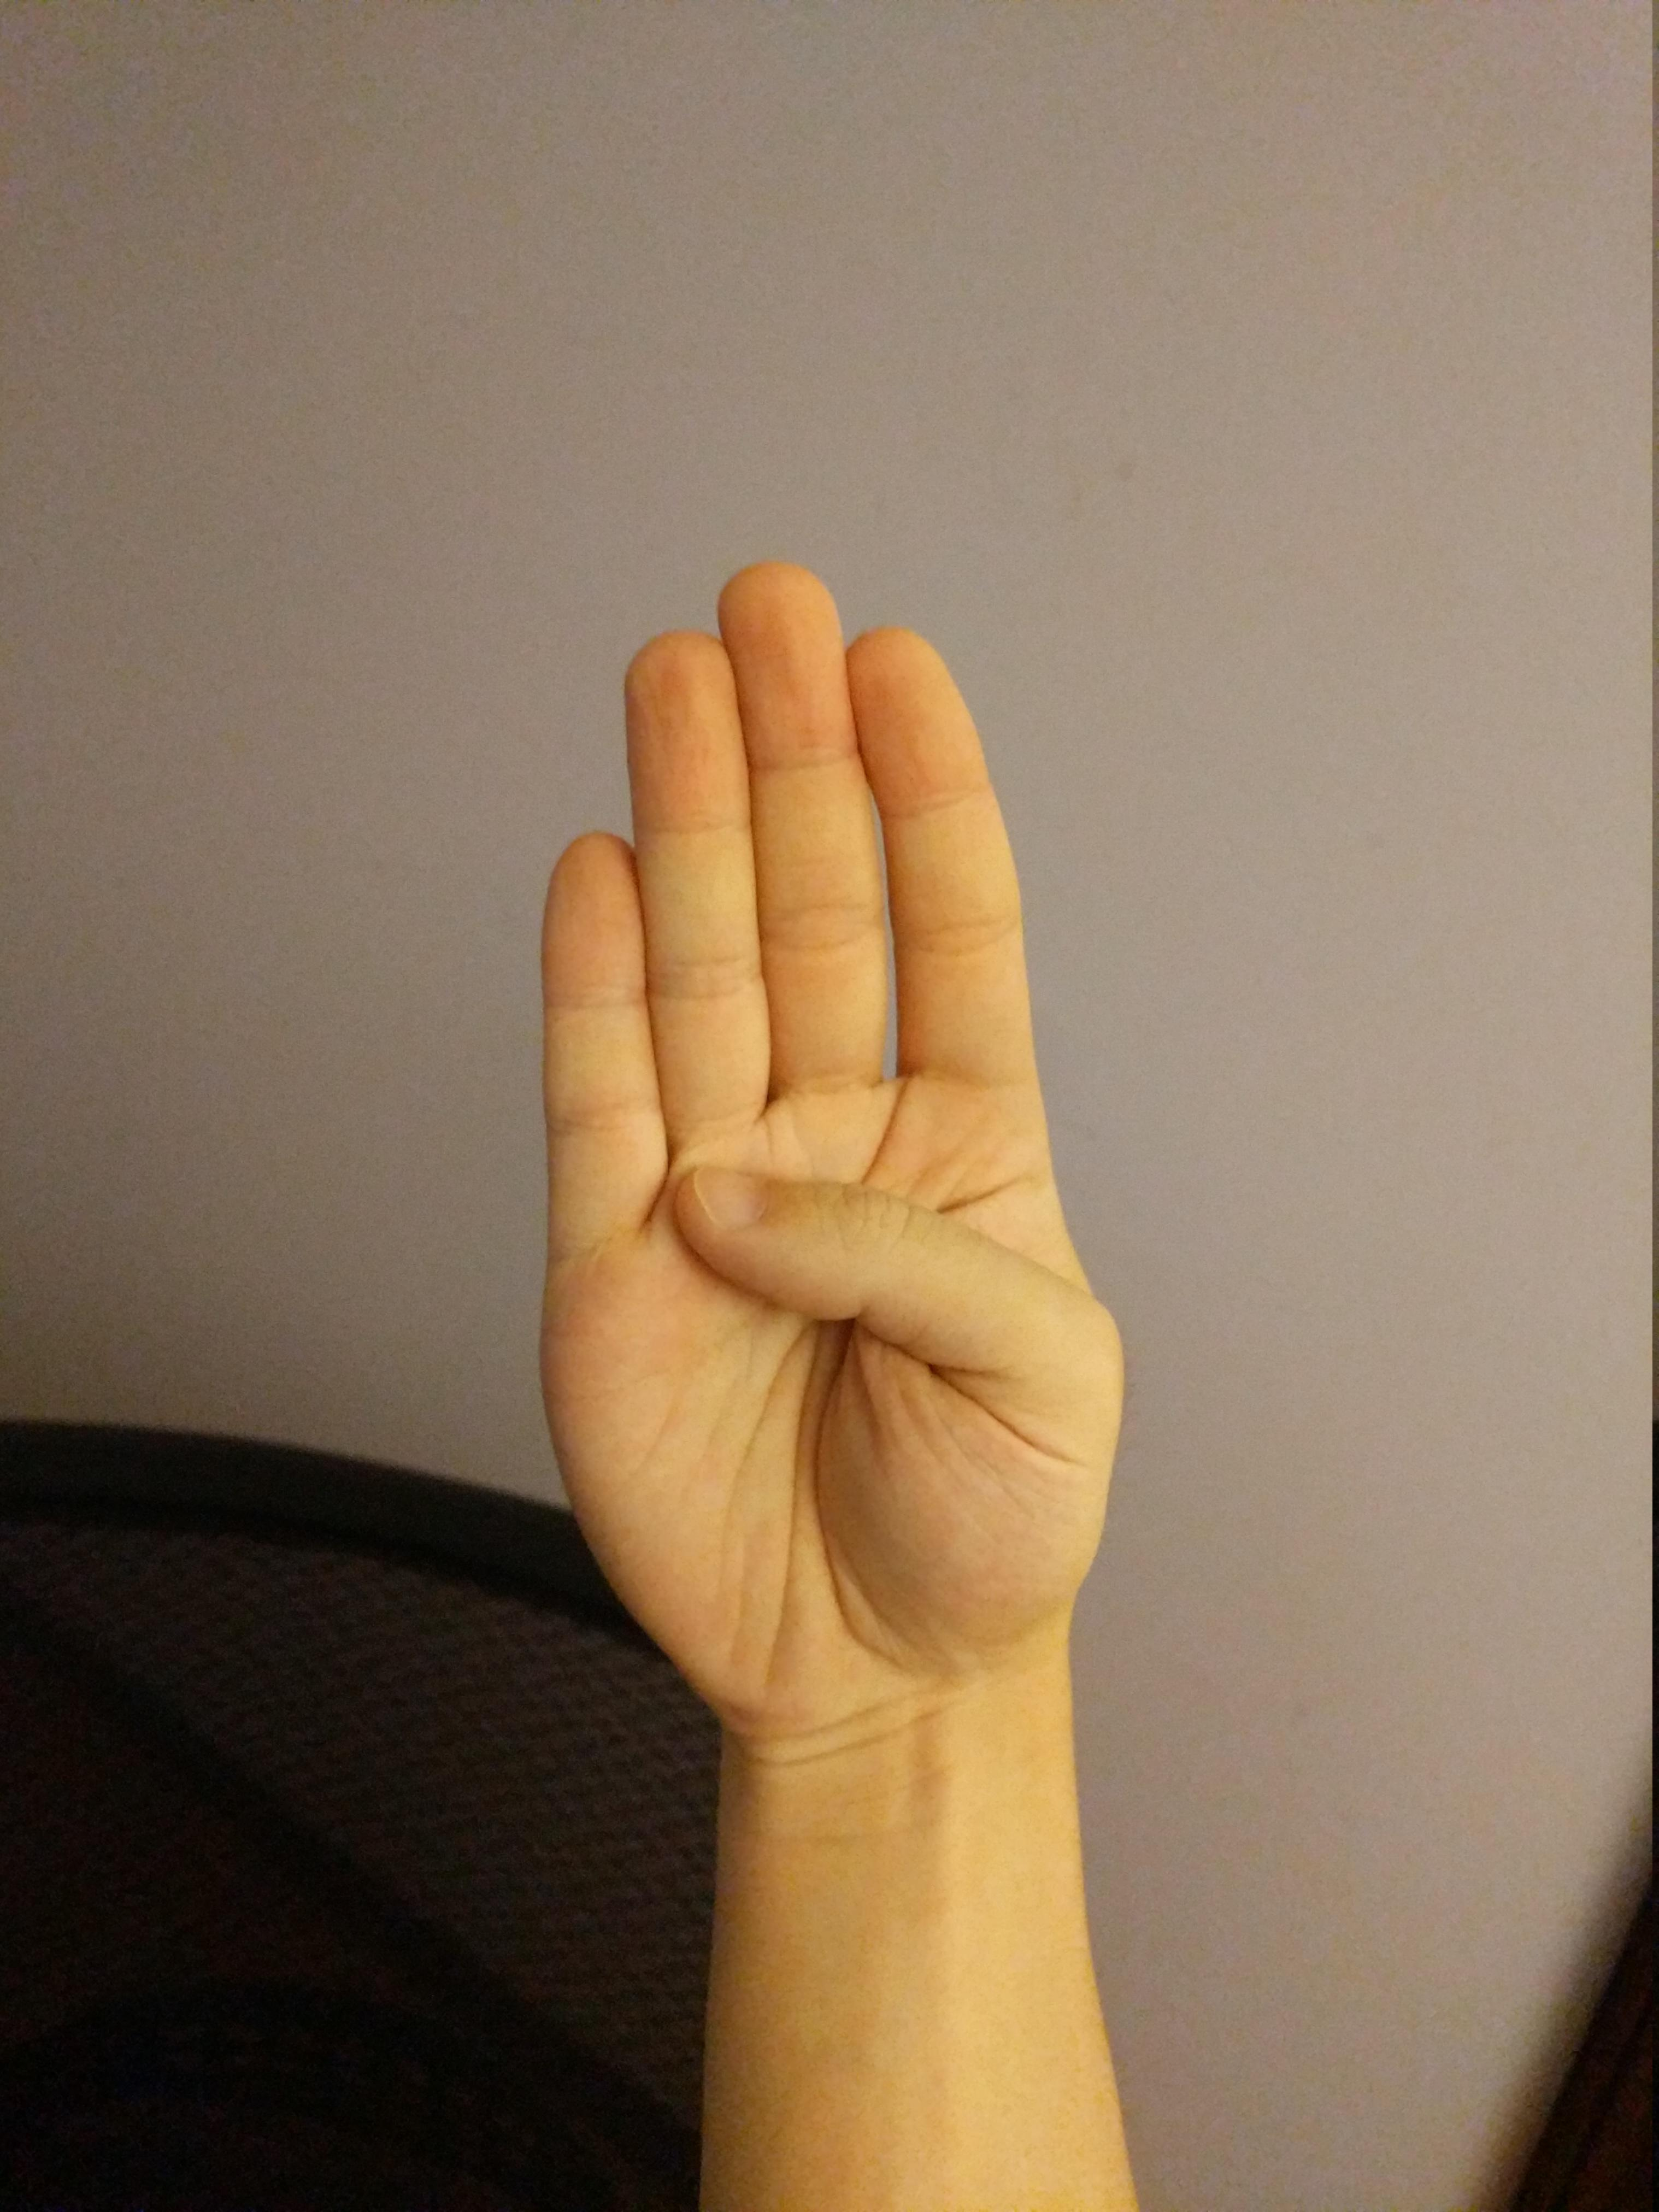B: (512, 538, 1148, 1761)
